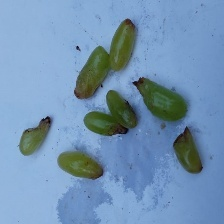grapes: (46, 13, 207, 184)
